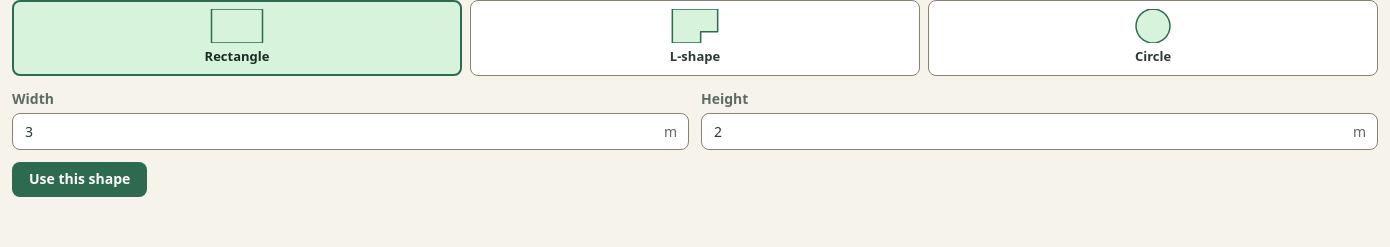
Test: ShapePicker › shows an inline message rather than throwing when a dimension is nonsensical
Replace the text in the number field labelled "Width" with "0". click: (350, 131)
box: [12, 112, 689, 150]
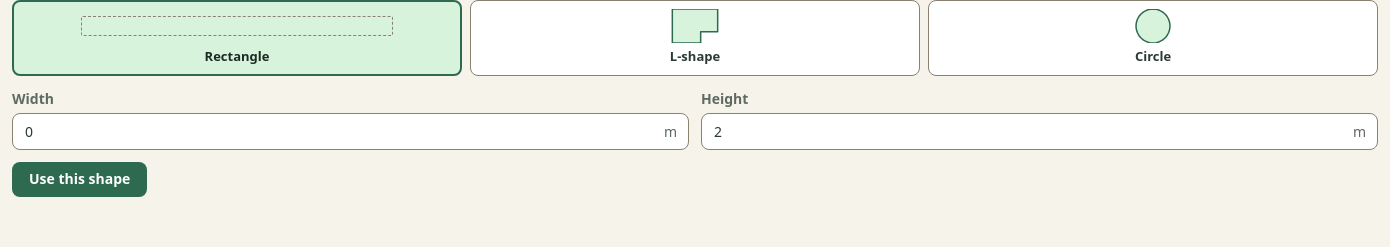
Click the button "Use this shape". click: (80, 180)
box: [12, 162, 147, 197]
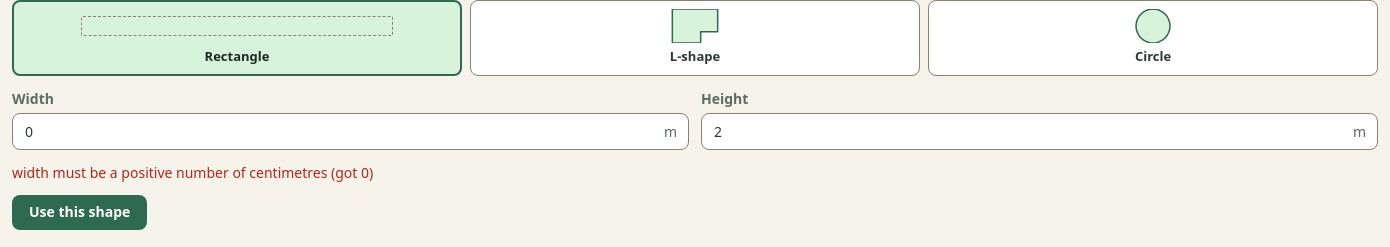
Check: the message "width must be a positive number of centimetres (got 0)" is shown, box [12, 163, 373, 182]
